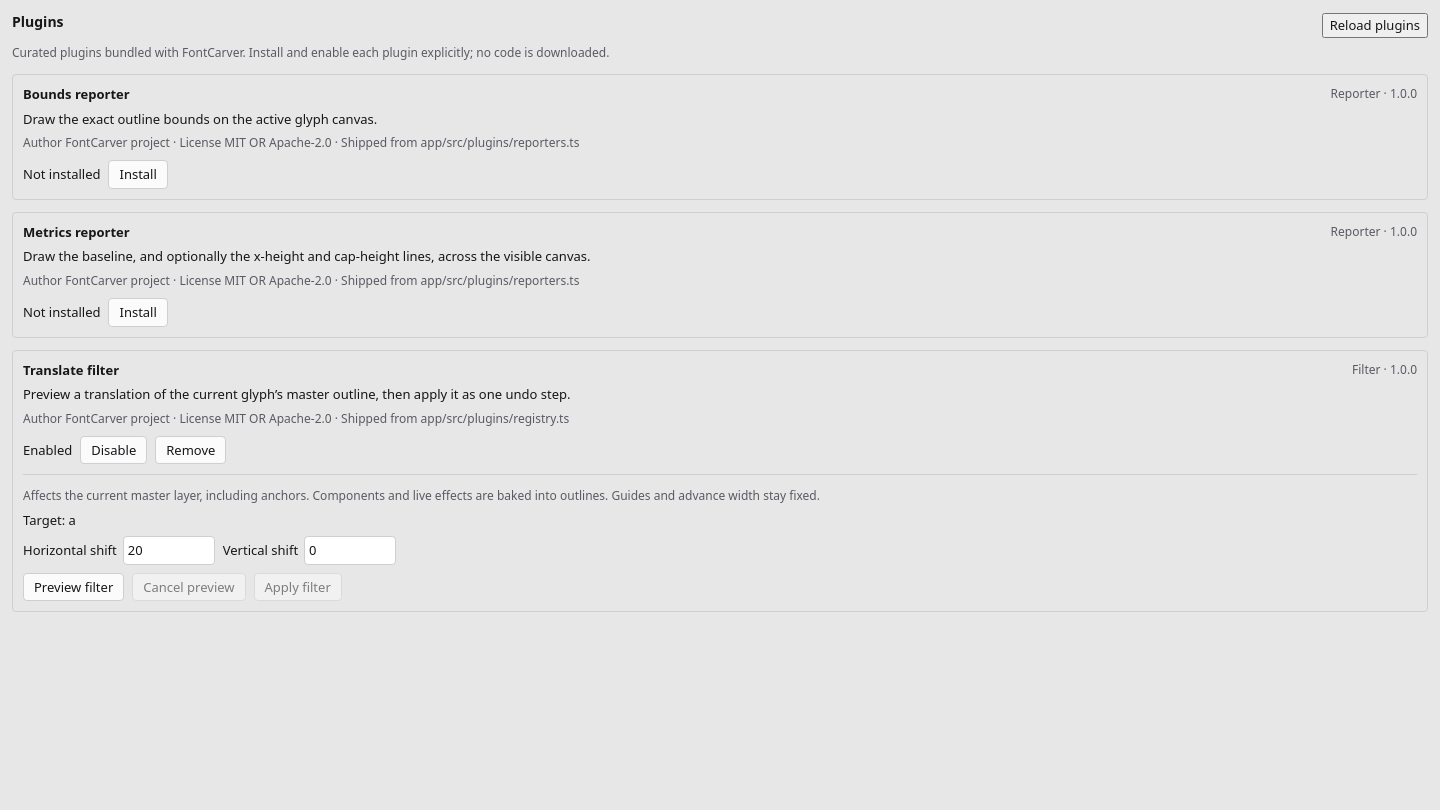
it: applies the reviewed revision once and reloads the active glyph
Click the button "Preview filter". click: (74, 587)
box: x1=23 y1=572 x2=124 y2=601
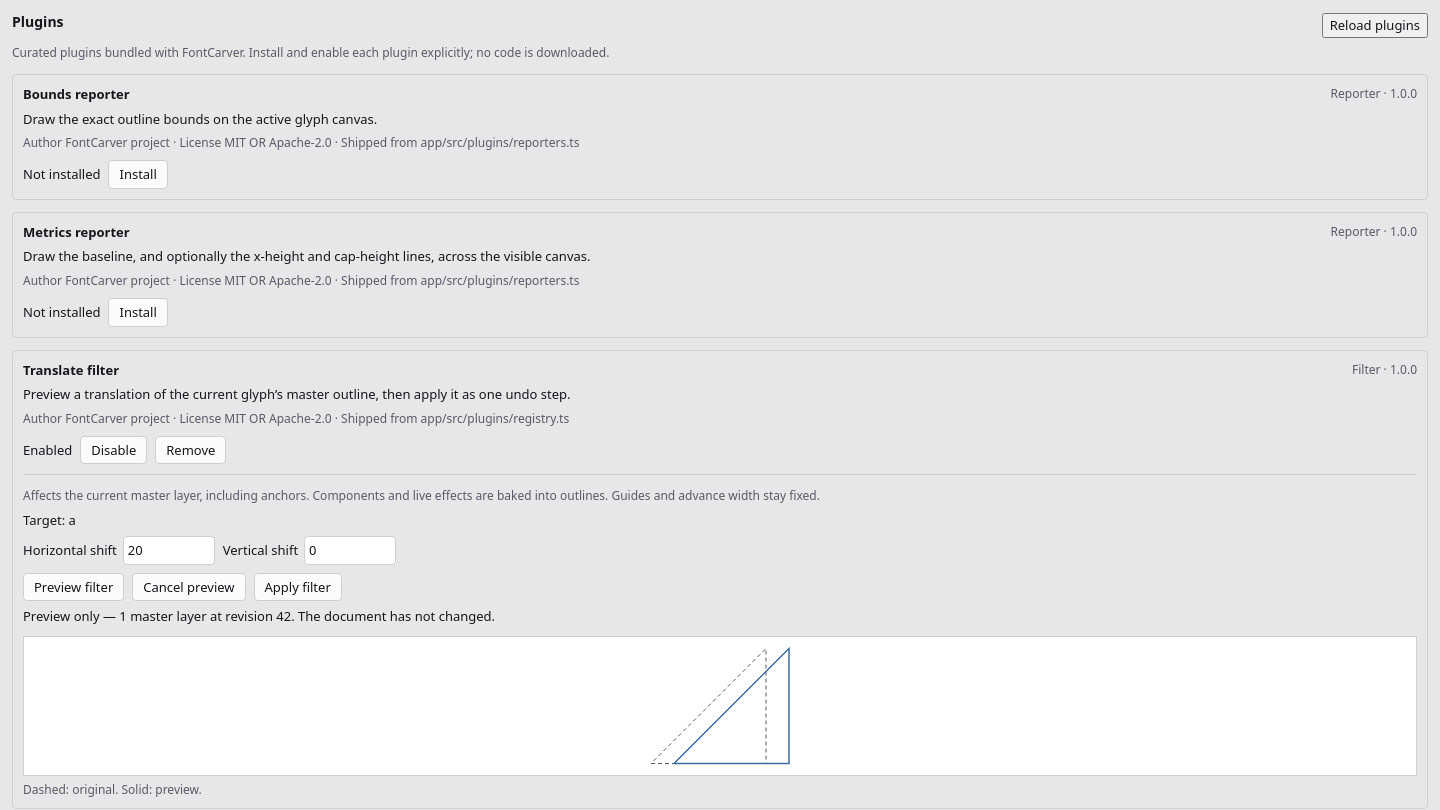
Expected: the button "Apply filter" is enabled
Click the button "Apply filter". click: (298, 587)
box: x1=254 y1=572 x2=342 y2=601
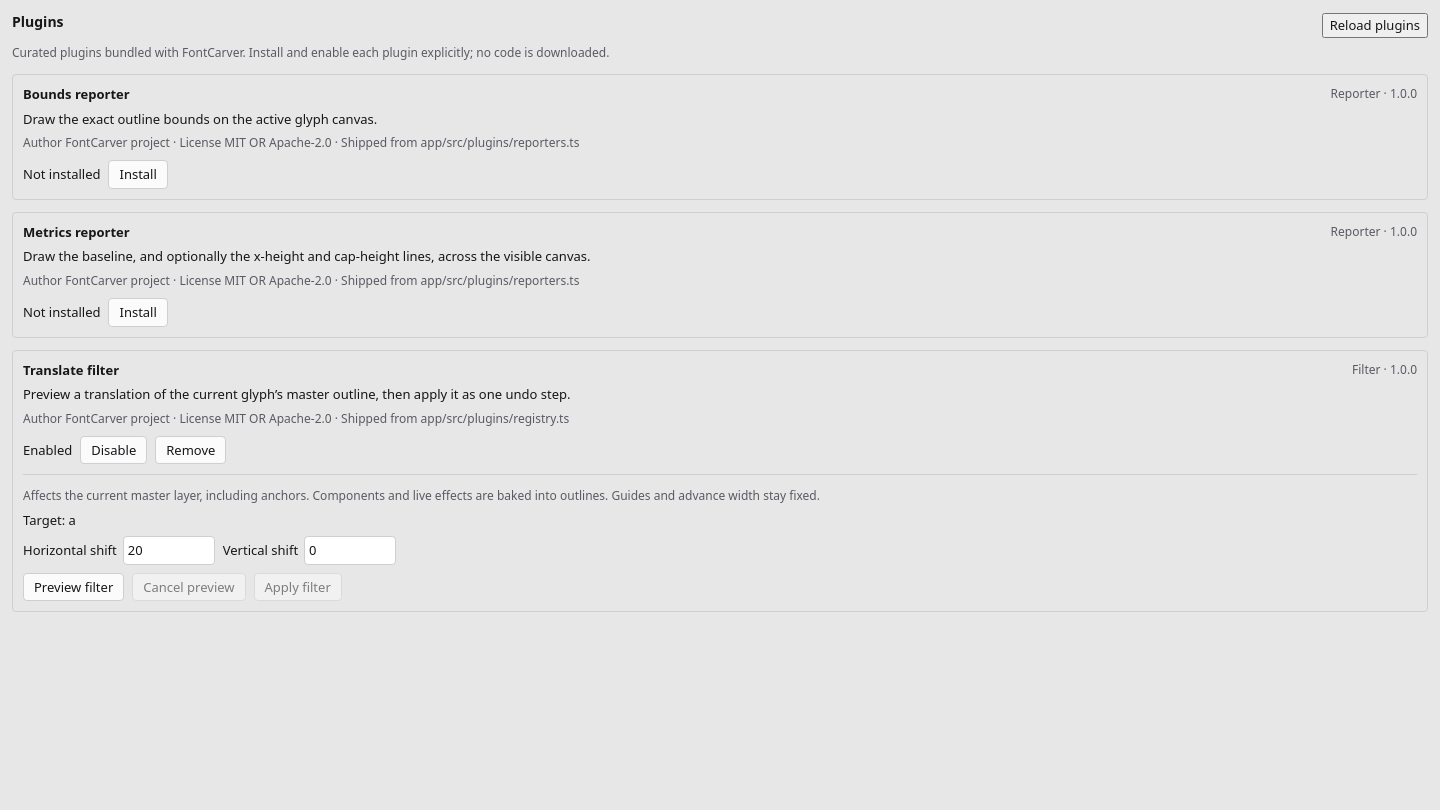
Expected: the picture is gone
Expected: the button "Apply filter" is disabled, x1=254 y1=572 x2=342 y2=601
